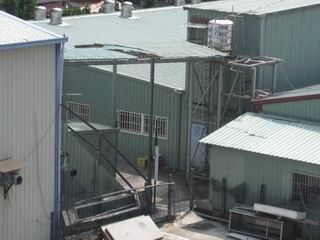water_tower: (206, 18, 234, 53)
